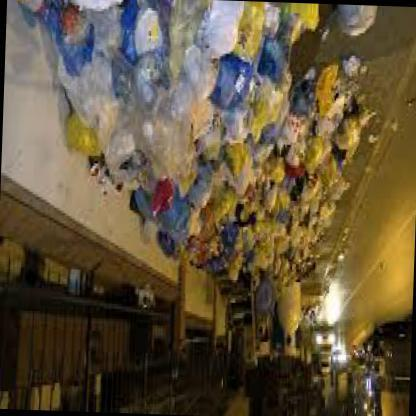Garbage: (54, 0, 360, 178), (142, 40, 376, 252), (132, 38, 234, 158), (209, 162, 322, 265), (260, 96, 354, 213), (110, 0, 181, 65), (60, 63, 114, 126), (66, 124, 120, 170), (218, 48, 252, 110), (282, 5, 320, 60), (334, 7, 382, 49), (301, 198, 329, 238), (168, 199, 194, 240), (342, 108, 366, 152), (232, 140, 252, 184), (231, 236, 250, 270), (274, 221, 286, 249)
